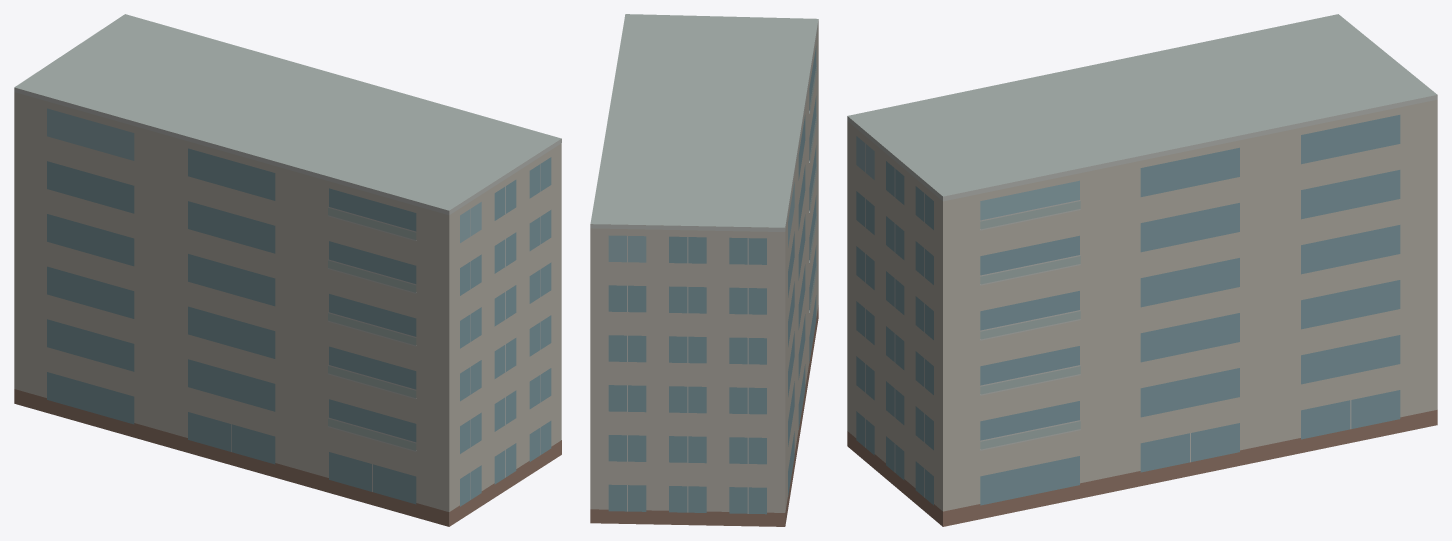
File: survey-upis-32584209.glb
3 renders of one model, left to right at view 1: azimuth 30°, elevation 25°; view 2: azimuth 150°, elevation 25°; view 3: azimuth 270°, elevation 25°, orthographic. The views are drawn at different scales.
Parts seen in each view (by area): view 1: survey-upis-32584209.tmp; view 2: survey-upis-32584209.tmp; view 3: survey-upis-32584209.tmp.
Part boxes in pixels (x1,y1,x2,y2): survey-upis-32584209.tmp: [14, 14, 561, 526]; survey-upis-32584209.tmp: [590, 14, 818, 526]; survey-upis-32584209.tmp: [847, 14, 1437, 526].
Bounding box in the file's own units: 19.81 × 16.7 × 27.06.
